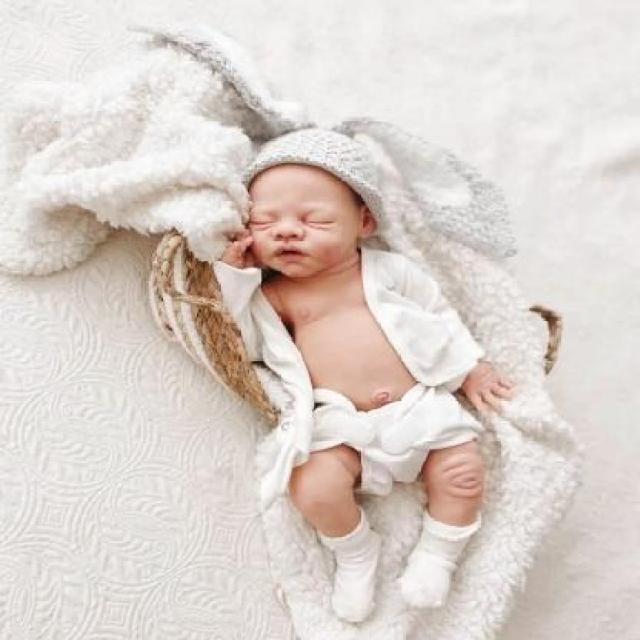baby: (214, 127, 516, 620)
